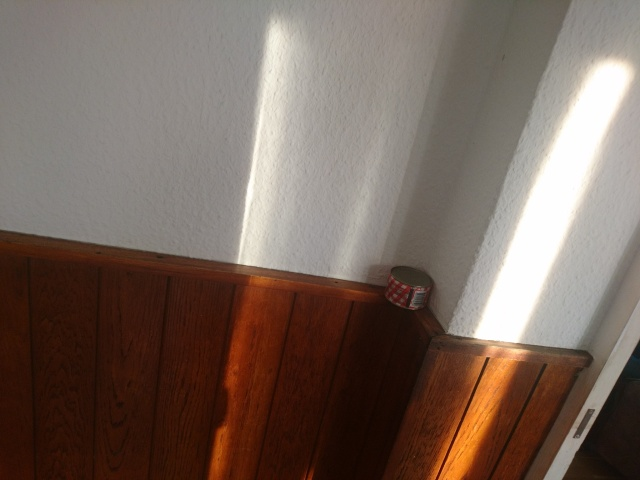Podravka Luncheon Meat 150g: (380, 262, 437, 314)
